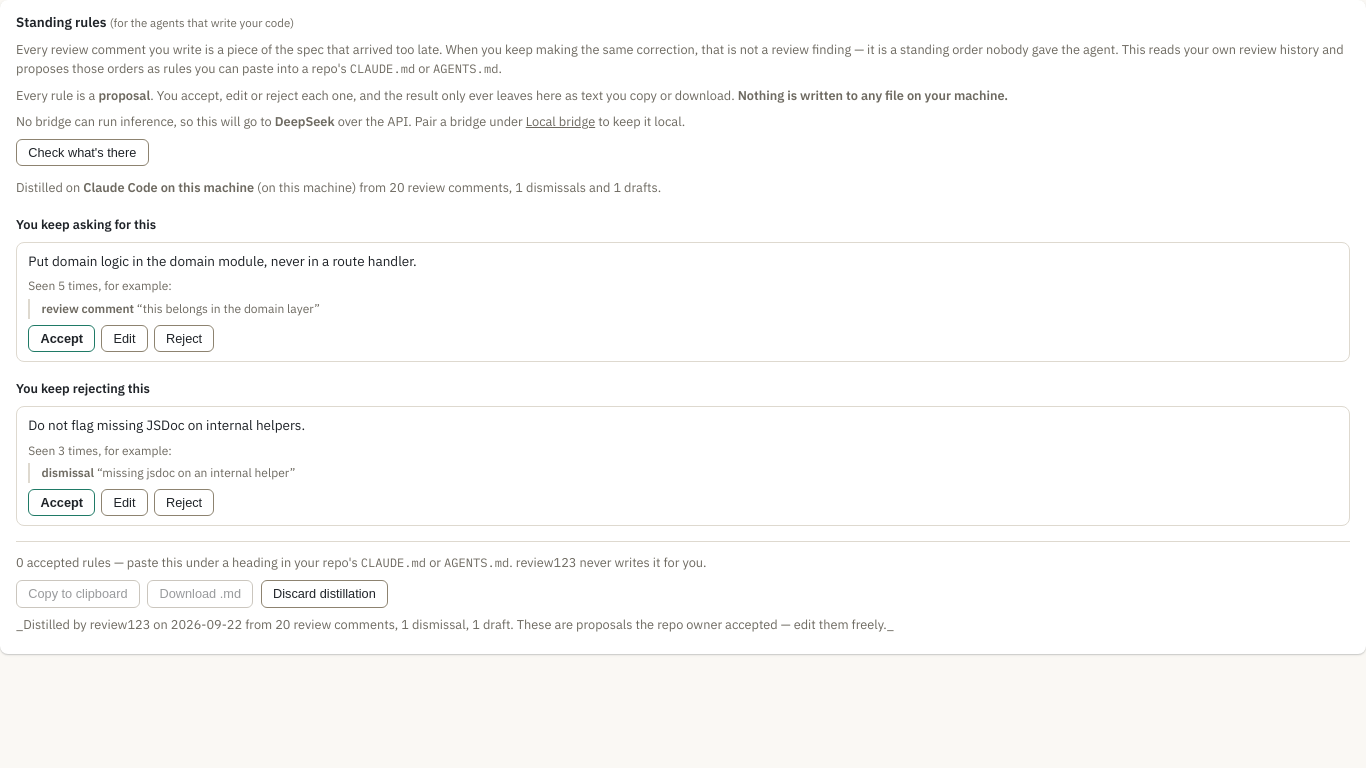
Test case: accept / edit / reject › rejecting a rule removes it from the proposals and remembers it
The image size is (1366, 768).
Click the button with aria-label "reject rule". click: x=184, y=338
box: [154,325,214,352]
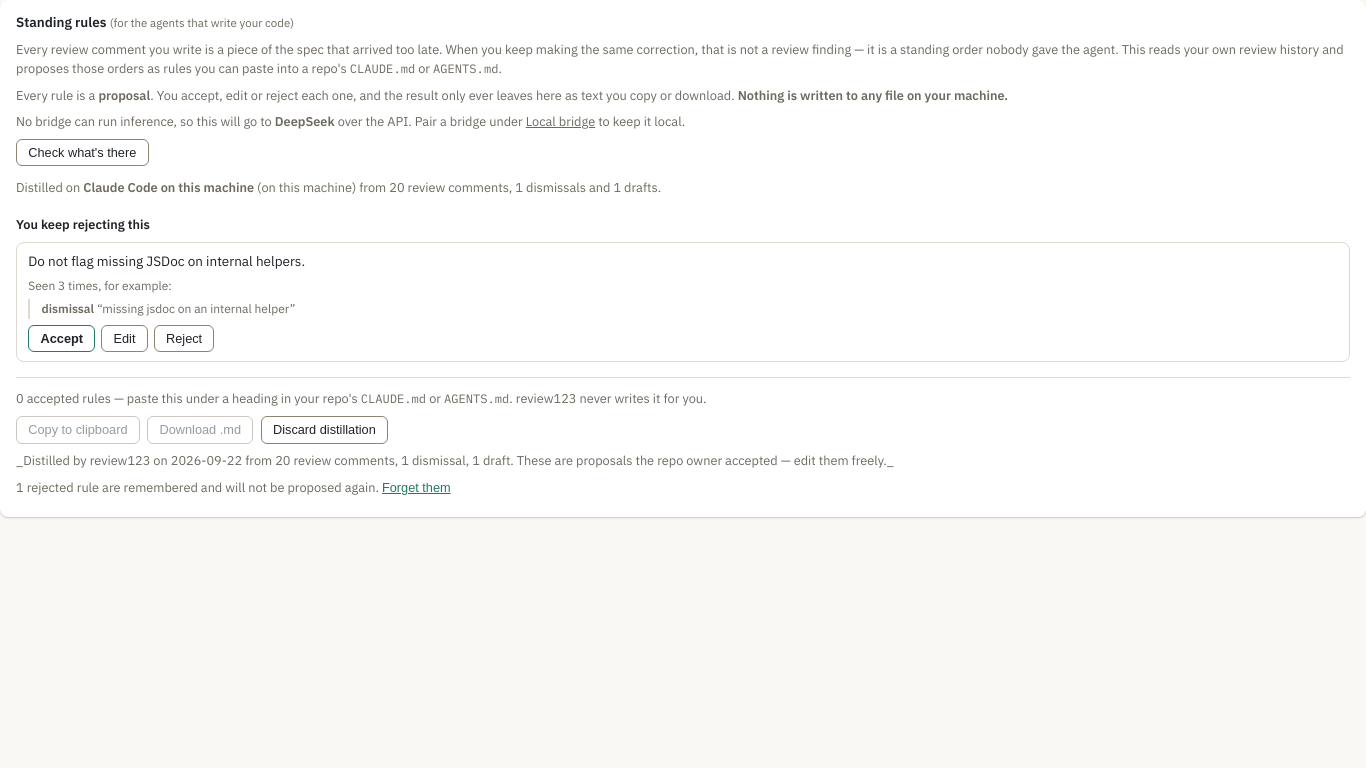
Expected: the number of list items with test id "standing-rule" is 1, [16,242,1350,362]
Expected: the element with test id "standing-rules-rejections" shows "1 rejected rule", [16,479,382,496]
